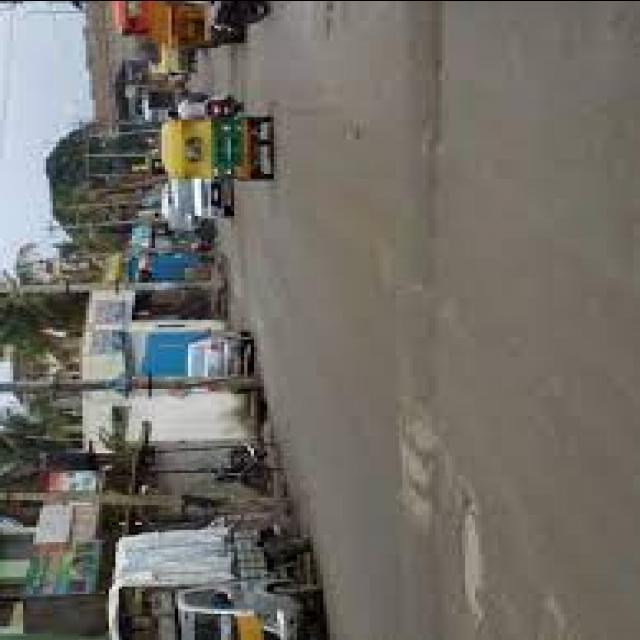speedbreaker: (382, 8, 448, 640)
